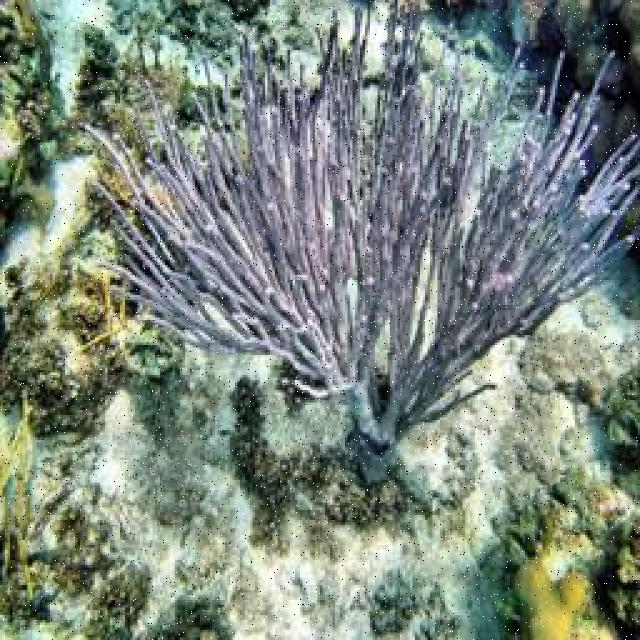reefs: (80, 0, 638, 453)
sea-floor: (234, 375, 477, 539), (0, 0, 121, 258), (0, 212, 122, 436), (31, 498, 122, 600), (517, 329, 611, 411), (73, 559, 155, 635), (372, 570, 458, 638), (138, 598, 238, 638), (606, 367, 637, 456)
